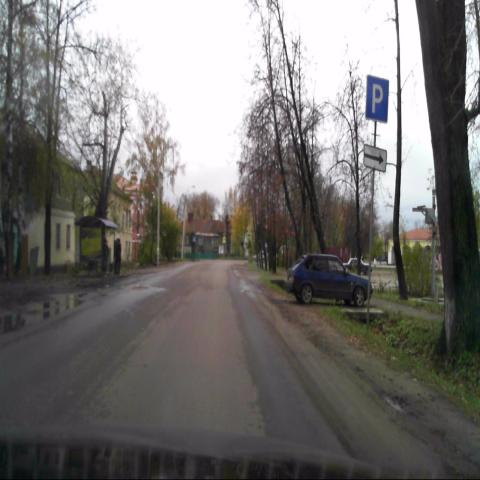6_4: (366, 76, 389, 124)
8_3_1: (364, 144, 386, 173)
